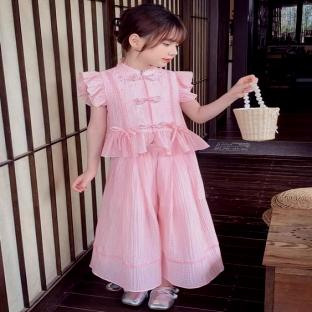Human: (73, 4, 258, 309)
